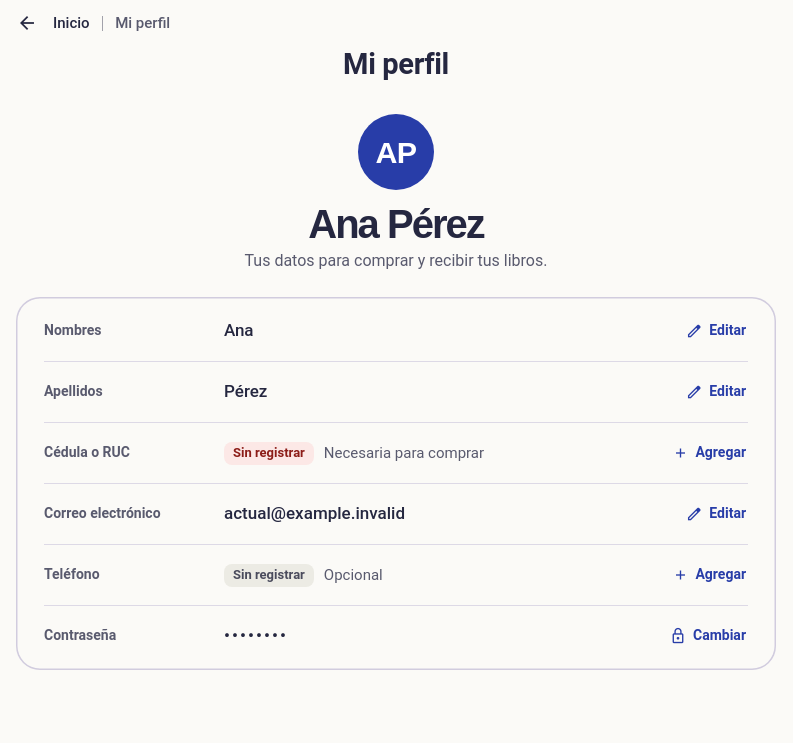
Test: respects an explicit rate-limit response
Click the button named "Cambiar contraseña". click: {"x": 708, "y": 636}
box: [659,614,758,658]
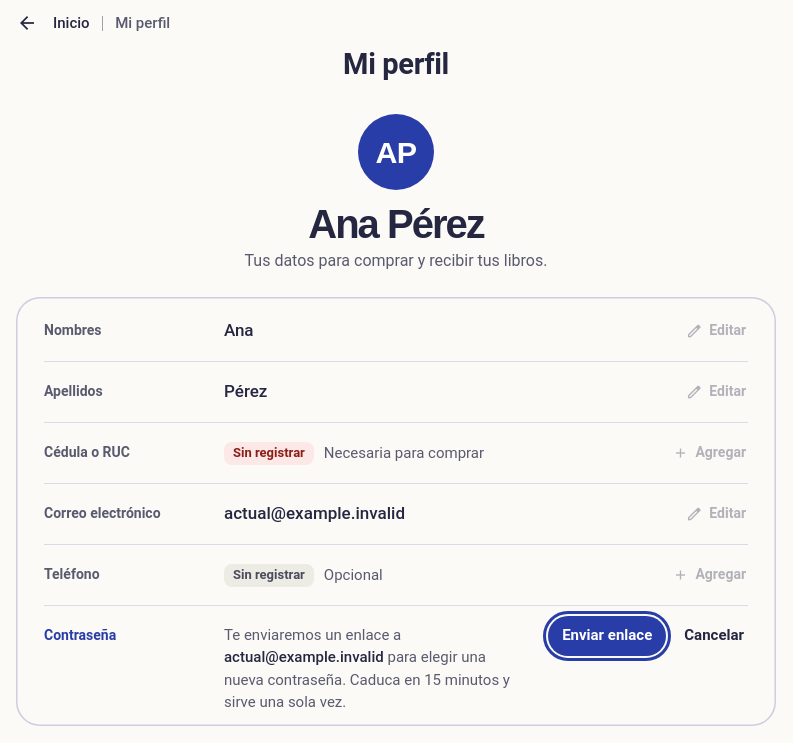
Click the button "Enviar enlace". click: {"x": 607, "y": 636}
box: [548,616,666,656]
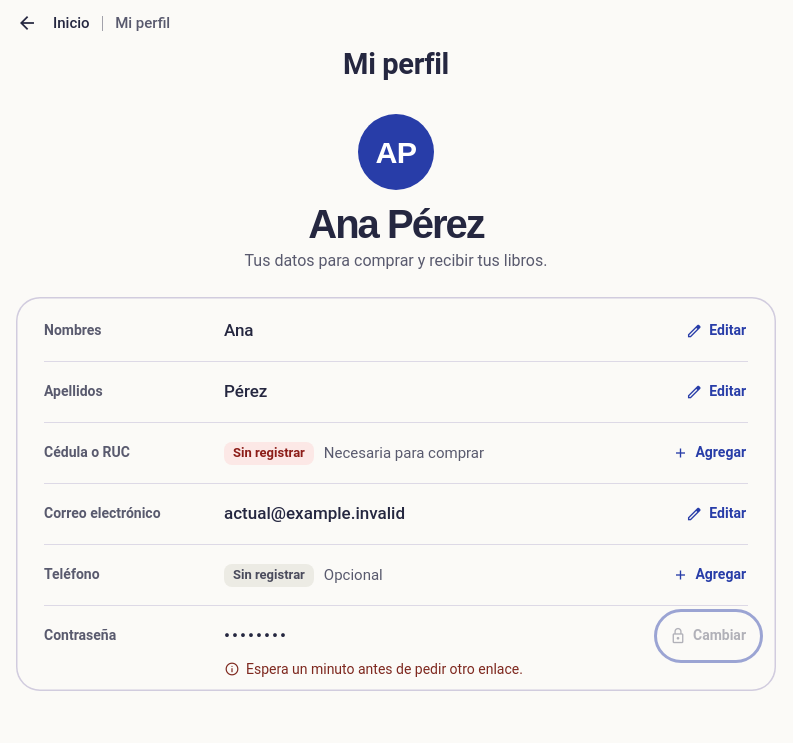
Expected: the message reads "Espera un minuto antes de pedir otro enlace.", [246,661,523,677]
